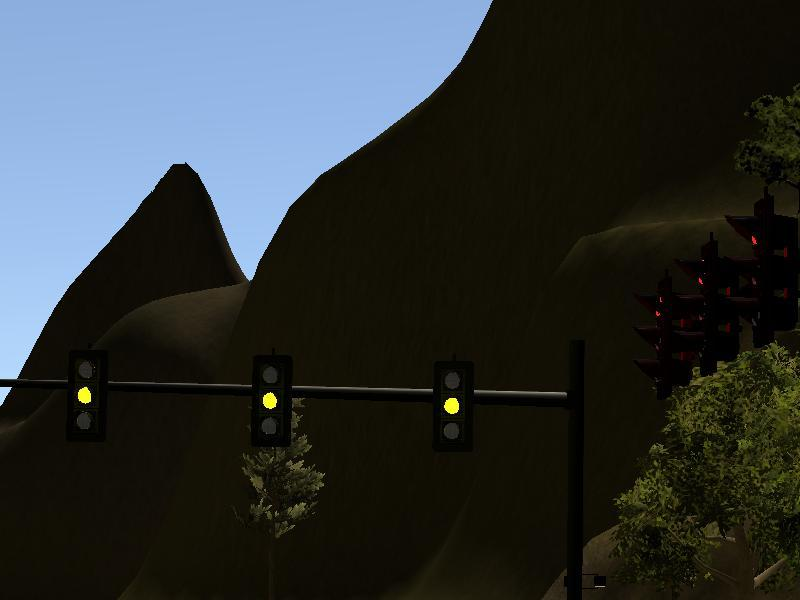Yellow: (434, 359, 474, 451), (252, 354, 291, 447), (68, 348, 106, 440)
